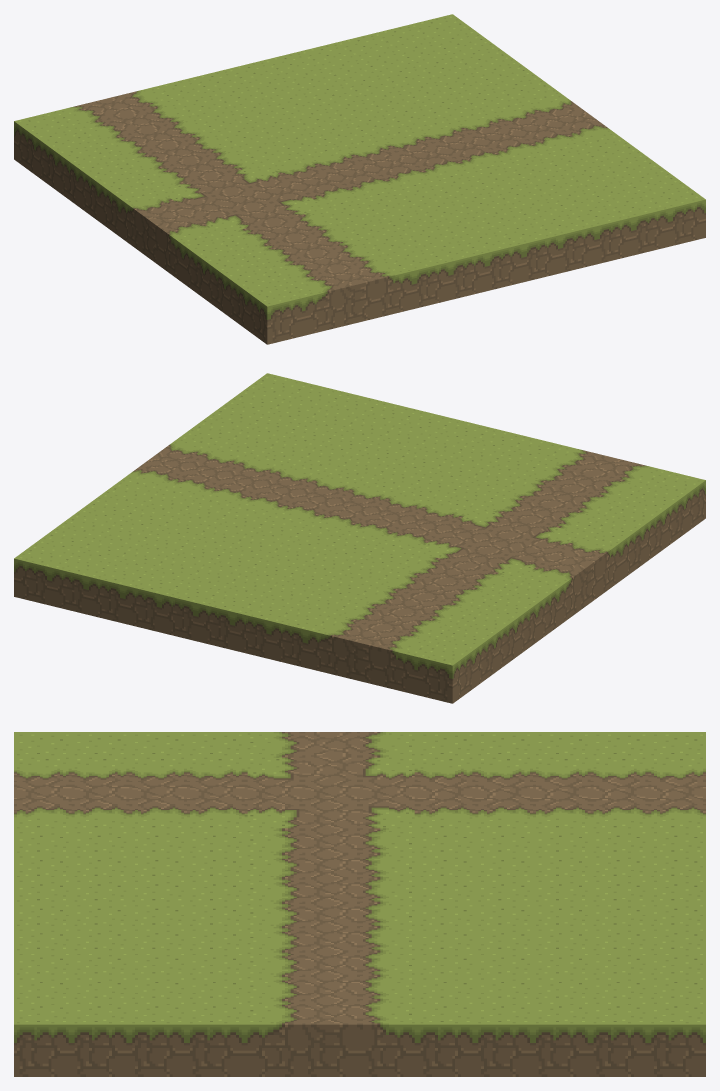
File: mudmiMap6.vox.obj
3 renders of one model, top to bottom at view 1: azimuth 30°, elevation 25°; view 2: azimuth 150°, elevation 25°; view 3: azimuth 270°, elevation 25°, orthographic. The views are drawn at different scales.
Bounding box in the file's own units: 24 × 2 × 24.
Materials: 1 (1 with a texture image).
